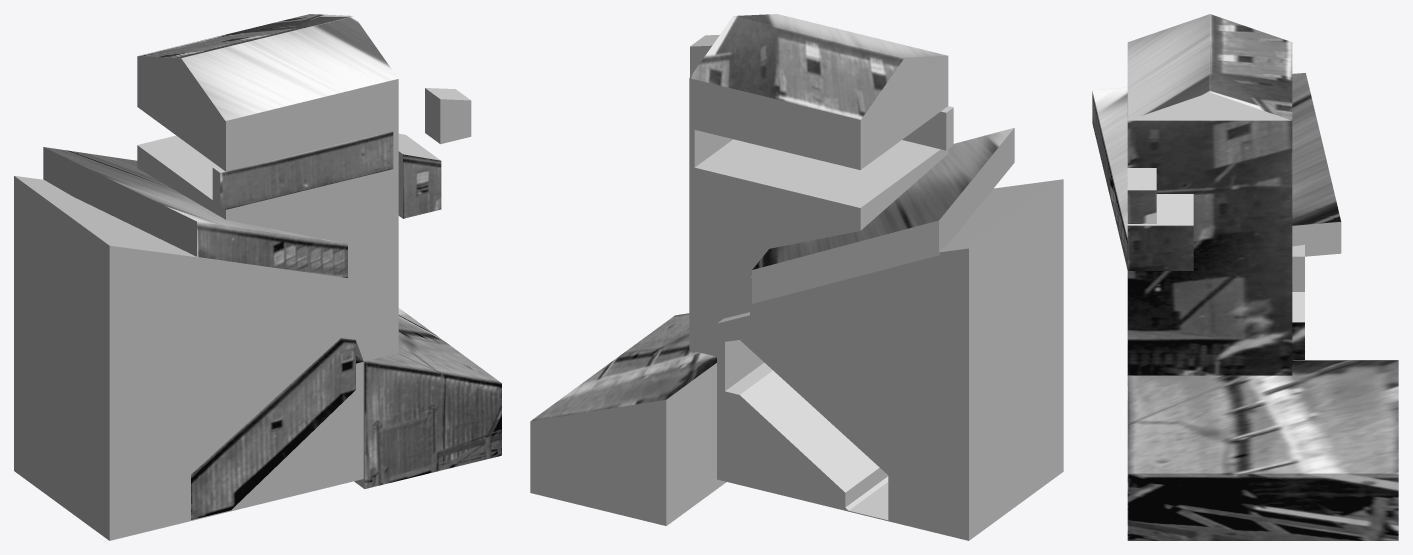
File: Scranton_Coal_Breaker_3.fbx
3 renders of one model, left to right at view 1: azimuth 30°, elevation 25°; view 2: azimuth 150°, elevation 25°; view 3: azimuth 270°, elevation 25°, orthographic. The views are drawn at different scales.
Visible parts, largest first — view 1: Model; view 2: Model; view 3: Model.
Part boxes in pixels (x1,y1,x2,y2): Model: (14, 14, 501, 540); Model: (530, 14, 1063, 540); Model: (1092, 14, 1398, 540).
Bounding box in the file's own units: 195 × 205 × 142.
